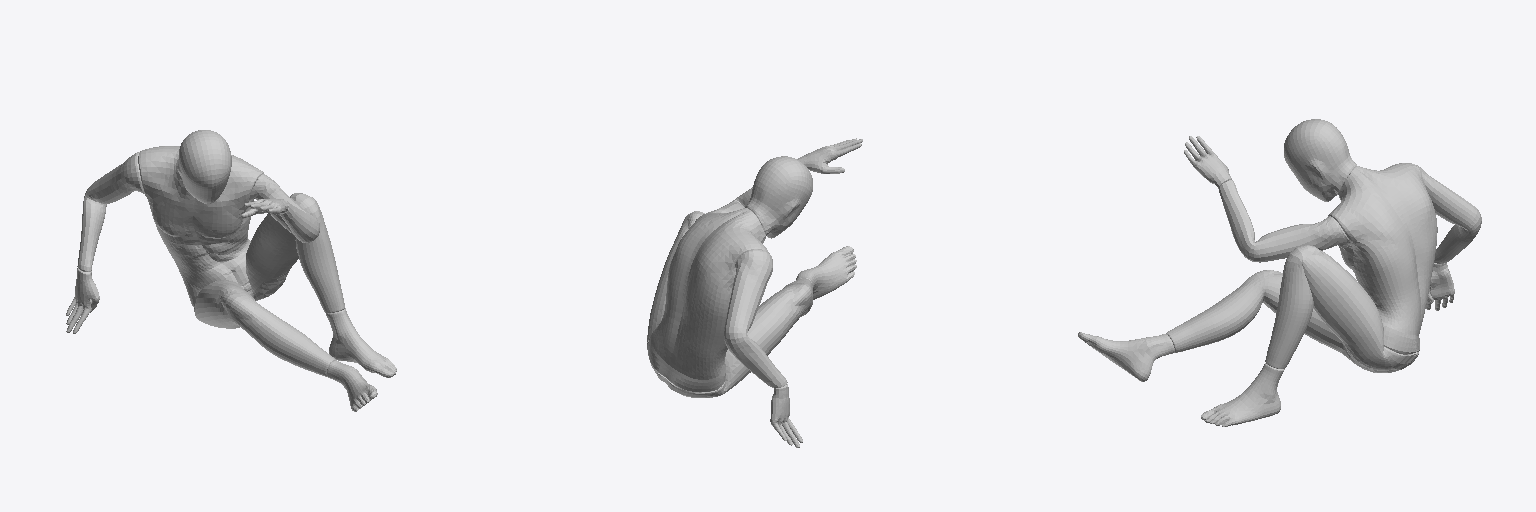
File: standup46.obj
3 views of the same model, side by side, from view 1: azimuth 30°, elevation 25°; view 2: azimuth 150°, elevation 25°; view 3: azimuth 270°, elevation 25° (orthographic).
Visible parts, largest first — view 1: Ch36; view 2: Ch36; view 3: Ch36.
Boxes of the visible parts, box(x1,y1,x2,y2) form: Ch36: box(66, 130, 396, 411); Ch36: box(647, 138, 862, 447); Ch36: box(1078, 119, 1481, 426).
Size of the model in its own units: 0.7822 by 0.7977 by 1.24.